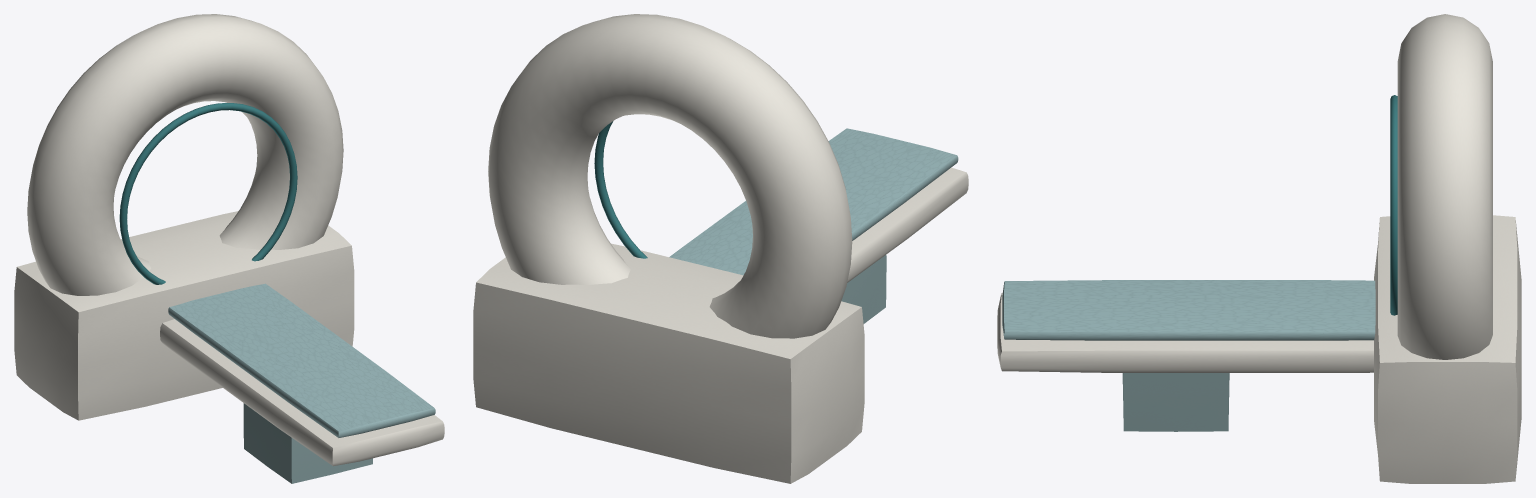
The model's file is ct-scanner.glb.
The picture shows the model from 3 angles, left to right: view 1: azimuth 30°, elevation 25°; view 2: azimuth 150°, elevation 25°; view 3: azimuth 270°, elevation 25°; orthographic projection. The views are drawn at different scales.
Visible parts, largest first — view 1: ct-scanner; view 2: ct-scanner; view 3: ct-scanner.
Part boxes in pixels (x1,y1,x2,y2): ct-scanner: (14, 14, 444, 483); ct-scanner: (473, 14, 968, 483); ct-scanner: (997, 14, 1521, 483).
Size of the model in its own units: 1.62 by 1.77 by 2.2.
Materials: 6 (6 with a texture image).
